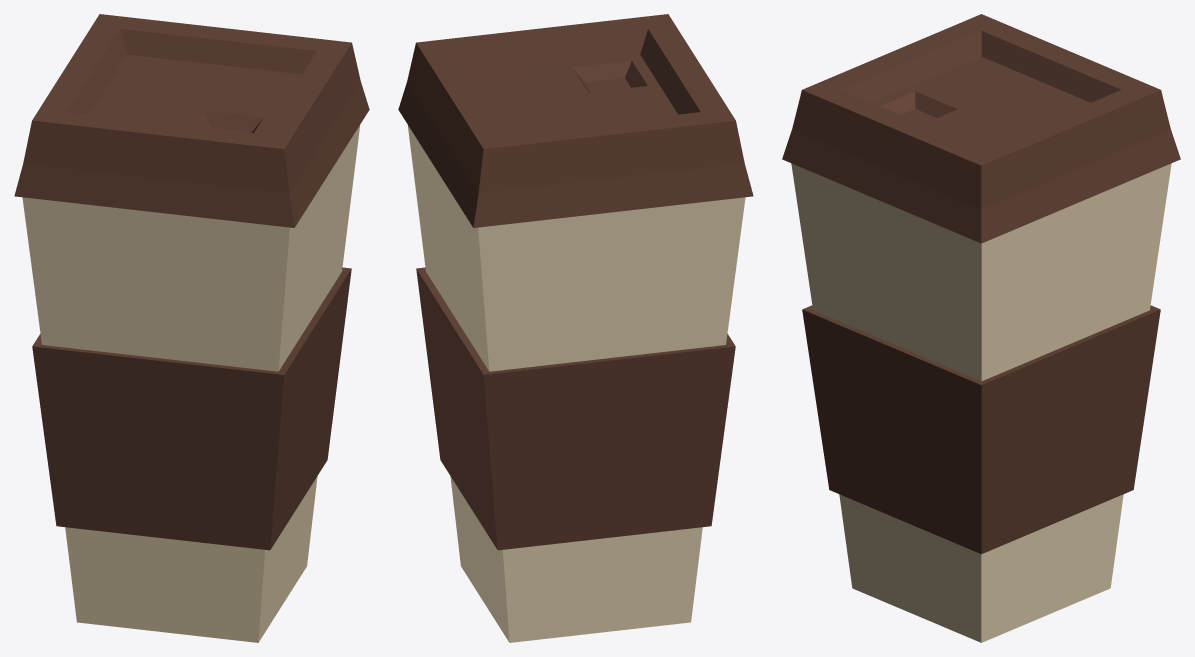
File: Coffee.fbx
3 views of the same model, side by side, from view 1: azimuth 30°, elevation 25°; view 2: azimuth 150°, elevation 25°; view 3: azimuth 270°, elevation 25° (orthographic). The views are drawn at different scales.
Visible parts, largest first — view 1: Cube; view 2: Cube; view 3: Cube.
Boxes of the visible parts, left/top/right/bottom form: Cube: left=14, top=14, right=369, bottom=642; Cube: left=398, top=14, right=753, bottom=642; Cube: left=782, top=14, right=1180, bottom=642.
Bounding box in the file's own units: 67.01 × 92.4 × 67.01.
